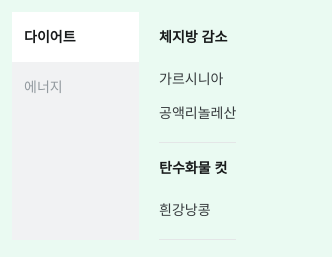
it: CategoryPage › 다른 대분류 클릭 시 해당 중분류로 전환된다
This screenshot has width=332, height=257.
Click the button "에너지". click: (76, 87)
box: [12,62,139,112]
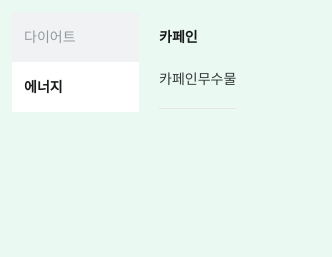
Check: the text "카페인" is shown, box [159,28,198,46]
Check: the text "체지방 감소" is gone
